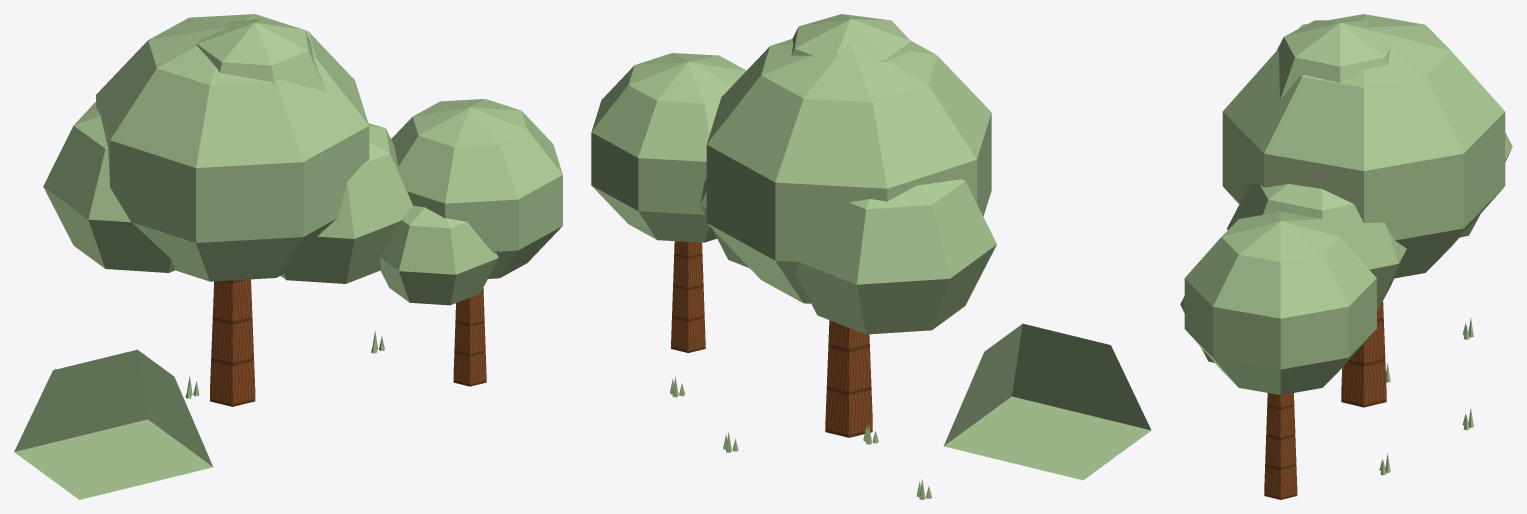
Rendered from caravan-park-and-campsite-tree-clump-dbb974b7__35383.glb.
3 views of the same model, side by side, from view 1: azimuth 30°, elevation 25°; view 2: azimuth 150°, elevation 25°; view 3: azimuth 270°, elevation 25° (orthographic). The views are drawn at different scales.
Parts seen in each view (by area): view 1: tree-clump-grass, tree-clump-timber; view 2: tree-clump-grass, tree-clump-timber; view 3: tree-clump-grass, tree-clump-timber.
Boxes of the visible parts, x1,y1,x2,y2 form: tree-clump-grass: [14, 14, 562, 499]; tree-clump-timber: [210, 279, 486, 406]; tree-clump-grass: [591, 14, 1151, 499]; tree-clump-timber: [671, 241, 872, 437]; tree-clump-grass: [1180, 14, 1512, 475]; tree-clump-timber: [1264, 301, 1386, 499].
Size of the model in its own units: 4.86 by 3.52 by 2.8.
2 materials, 1 textured.
